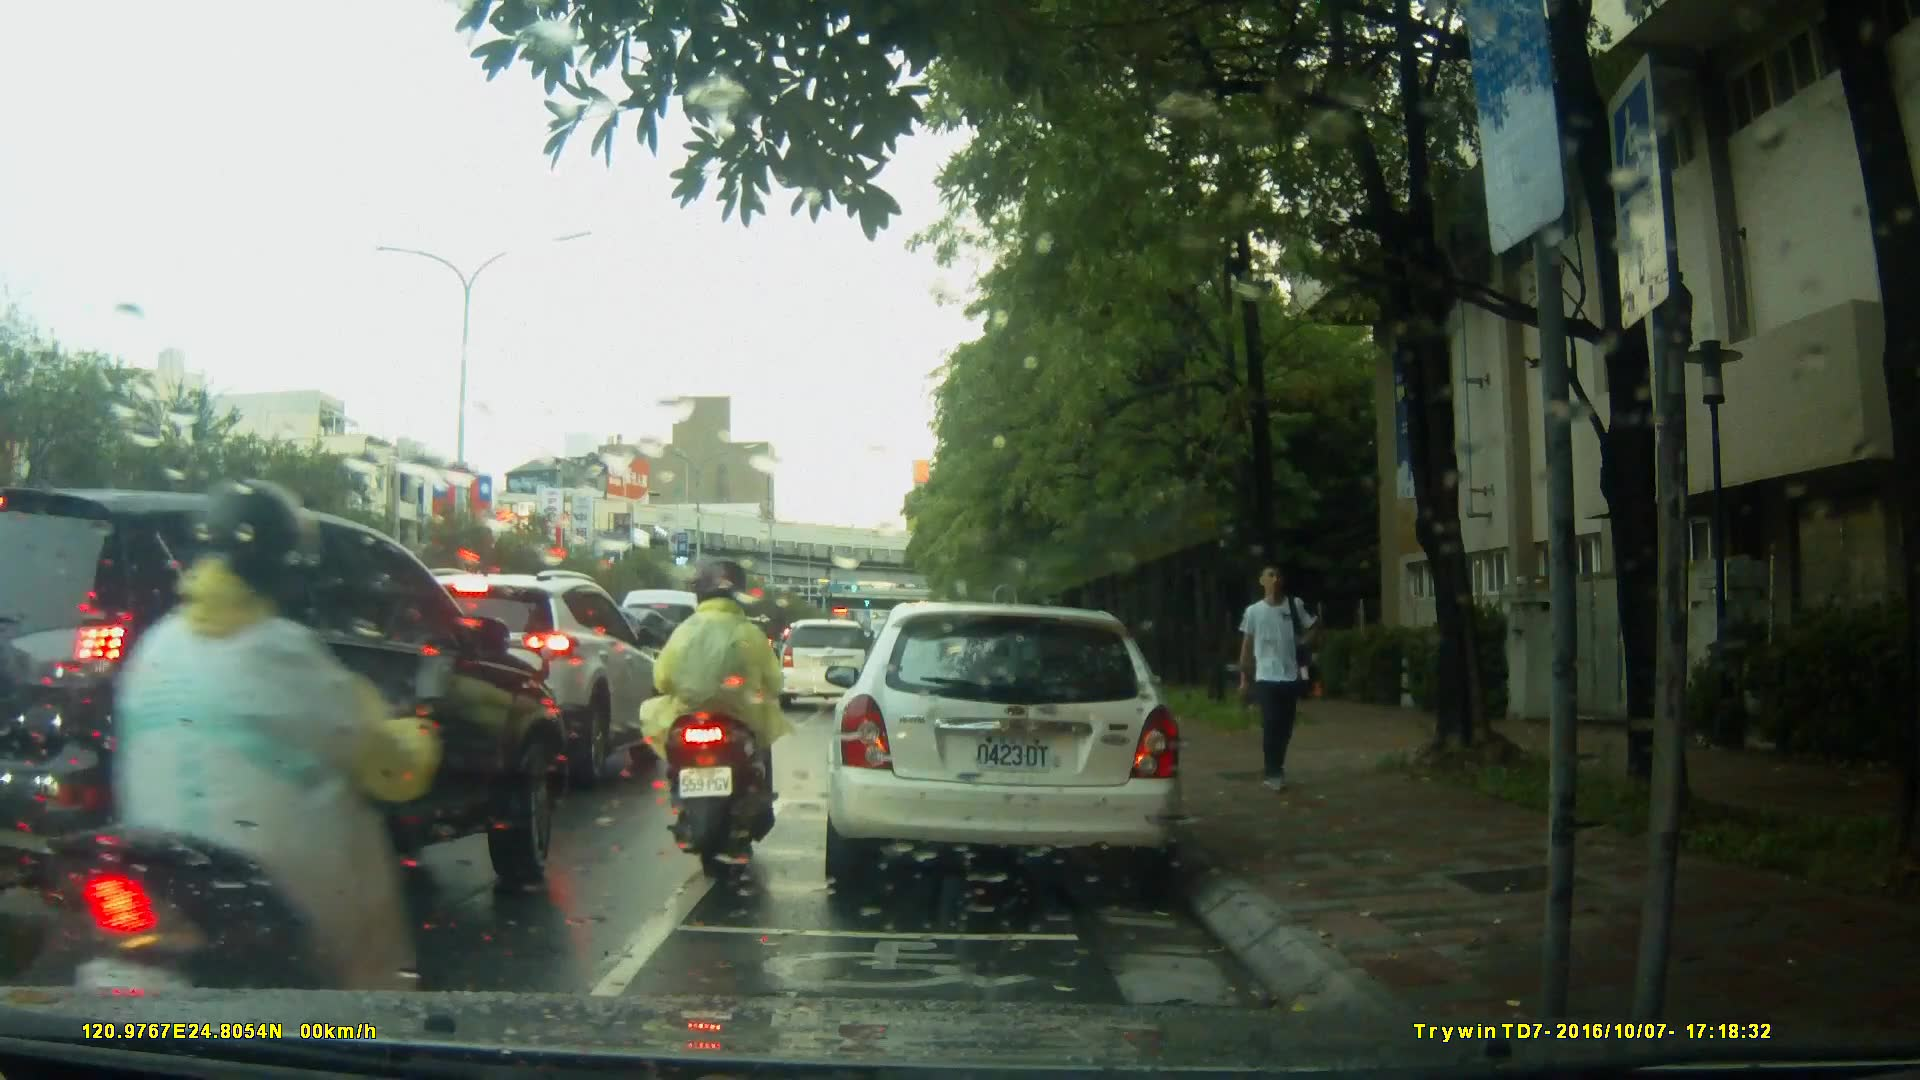pedestrian: (1227, 558, 1324, 804)
rider: (70, 487, 438, 1046), (653, 556, 798, 878)
vehicle: (1, 481, 573, 971), (820, 602, 1188, 898), (362, 566, 669, 783), (613, 588, 732, 717), (771, 617, 880, 711)
